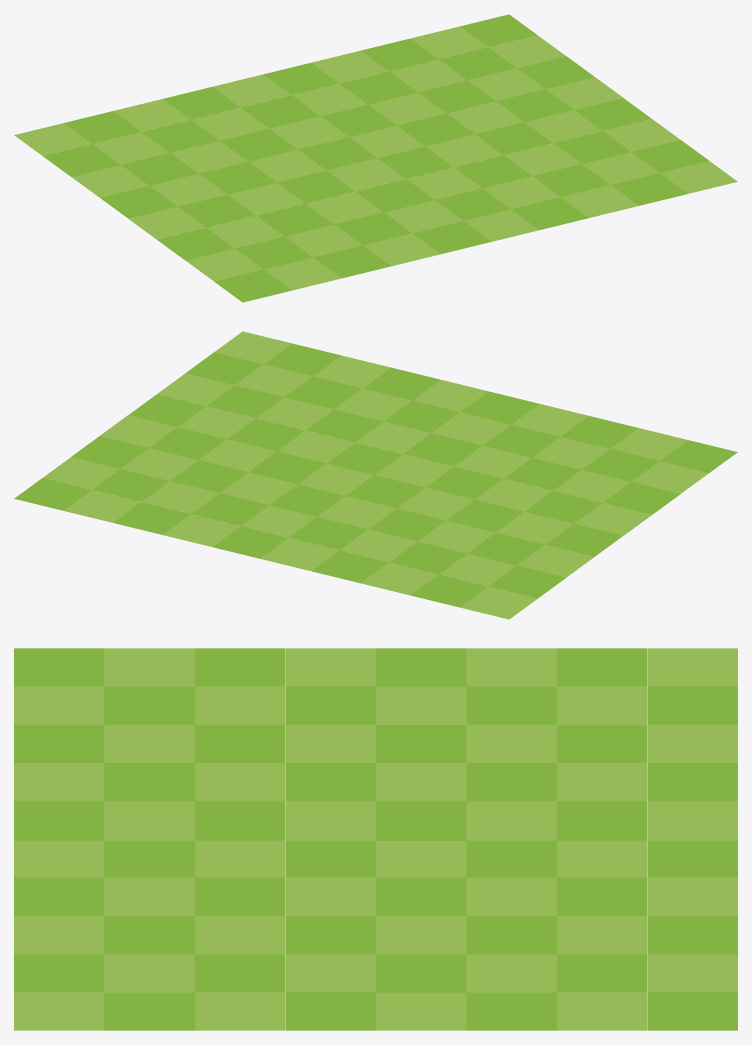
Rendered from Grass9.fbx.
3 renders of one model, top to bottom at view 1: azimuth 30°, elevation 25°; view 2: azimuth 150°, elevation 25°; view 3: azimuth 270°, elevation 25°, orthographic. The views are drawn at different scales.
Visible parts, largest first — view 1: Plane.005; view 2: Plane.005; view 3: Plane.005.
Part boxes in pixels (<box>): Plane.005: <box>14,14,737,302</box>; Plane.005: <box>14,331,737,619</box>; Plane.005: <box>14,648,737,1030</box>.
Bounding box in the file's own units: 10 × 4.89e-07 × 8.
